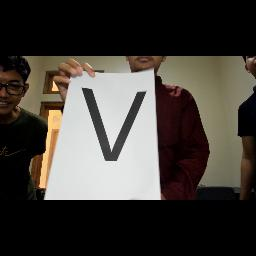v: (76, 80, 150, 168)
